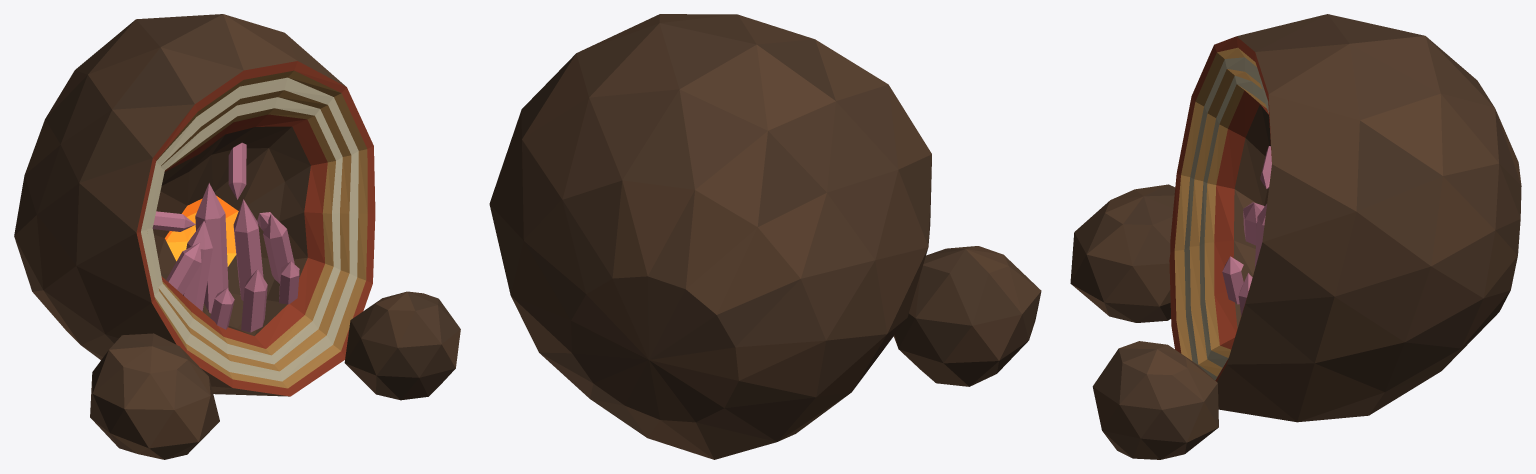
The model's file is mineral-geode-cluster-299927.glb.
3 renders of one model, left to right at view 1: azimuth 30°, elevation 25°; view 2: azimuth 150°, elevation 25°; view 3: azimuth 270°, elevation 25°, orthographic. The views are drawn at different scales.
Parts seen in each view (by area): view 1: geode, glow-chamber; view 2: geode; view 3: geode.
Part boxes in pixels (x1=…): geode: x1=14, y1=14, x2=460, y2=459; glow-chamber: x1=165, y1=195, x2=238, y2=266; geode: x1=489, y1=14, x2=1041, y2=459; geode: x1=1070, y1=14, x2=1521, y2=459.
Size of the model in its own units: 1 by 0.877 by 1.
